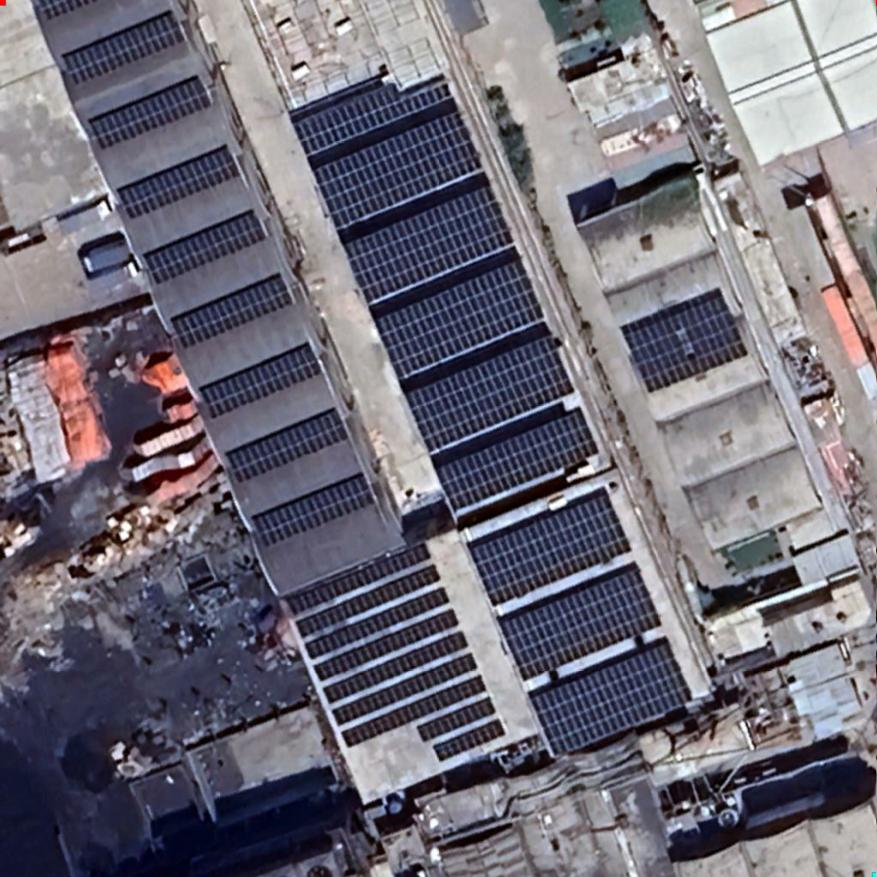Solarpanel: (308, 102, 485, 235), (523, 632, 700, 764), (373, 254, 549, 384), (405, 330, 581, 458), (462, 480, 637, 608), (343, 184, 518, 311), (497, 556, 670, 684), (429, 403, 605, 518), (288, 51, 460, 162), (618, 283, 753, 396), (276, 535, 438, 616), (333, 670, 493, 752), (305, 604, 468, 684), (290, 562, 452, 642), (193, 335, 334, 424), (294, 587, 452, 666), (317, 625, 469, 707), (242, 467, 388, 552), (328, 649, 482, 728), (217, 400, 357, 486), (54, 4, 197, 87), (112, 140, 249, 219), (133, 209, 270, 287), (86, 70, 218, 149), (414, 692, 498, 747), (428, 715, 508, 761)
